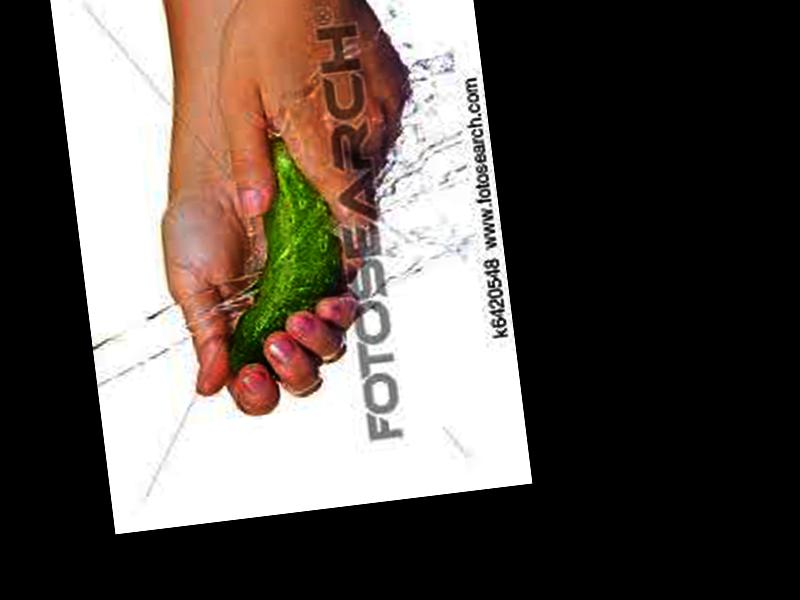Cucumber: (202, 125, 358, 376)
